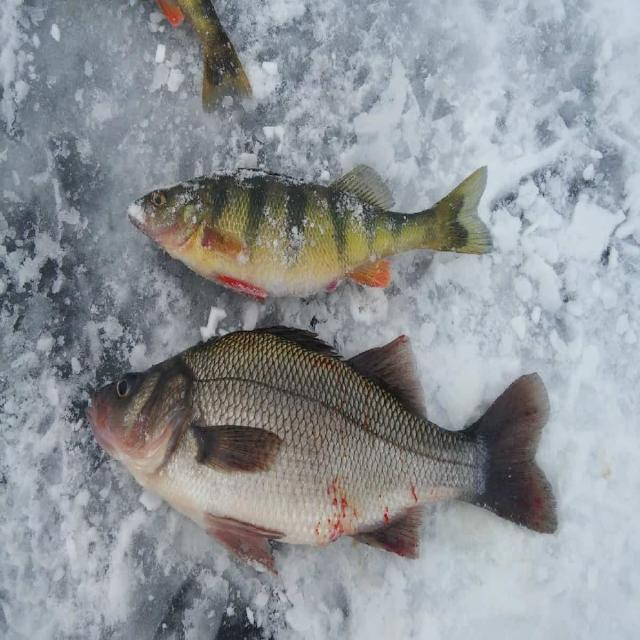Perch - White: (86, 327, 556, 568)
